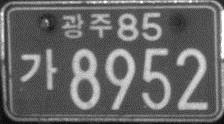2: (176, 46, 209, 113)
5: (140, 46, 174, 111), (141, 10, 162, 42)
8: (67, 46, 101, 109), (117, 11, 138, 41)
9: (100, 47, 137, 112)
가: (20, 46, 60, 92)
광주_O: (60, 11, 112, 40)
